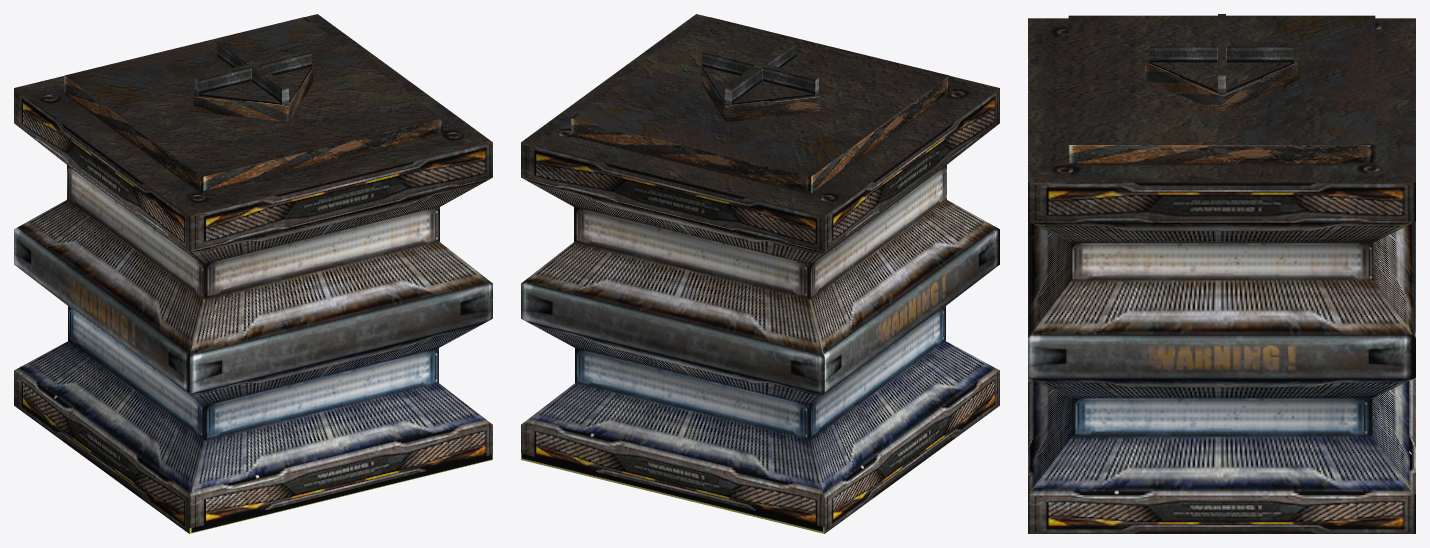
The model's file is bure4.obj.
3 renders of one model, left to right at view 1: azimuth 30°, elevation 25°; view 2: azimuth 150°, elevation 25°; view 3: azimuth 270°, elevation 25°, orthographic. The views are drawn at different scales.
Visible parts, largest first — view 1: MSH_cube; view 2: MSH_cube; view 3: MSH_cube.
Boxes of the visible parts, bbox=[...] form: MSH_cube: bbox=[14, 14, 492, 533]; MSH_cube: bbox=[521, 14, 999, 533]; MSH_cube: bbox=[1028, 14, 1415, 533].
Size of the model in its own units: 8 by 9.27 by 8.
Materials: 1 (1 with a texture image).
